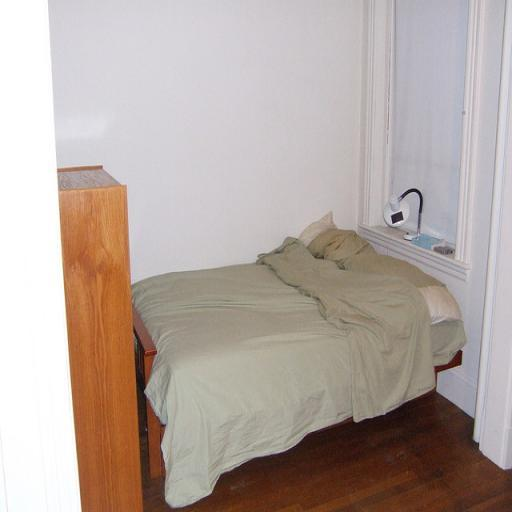bed: (126, 186, 492, 512)
